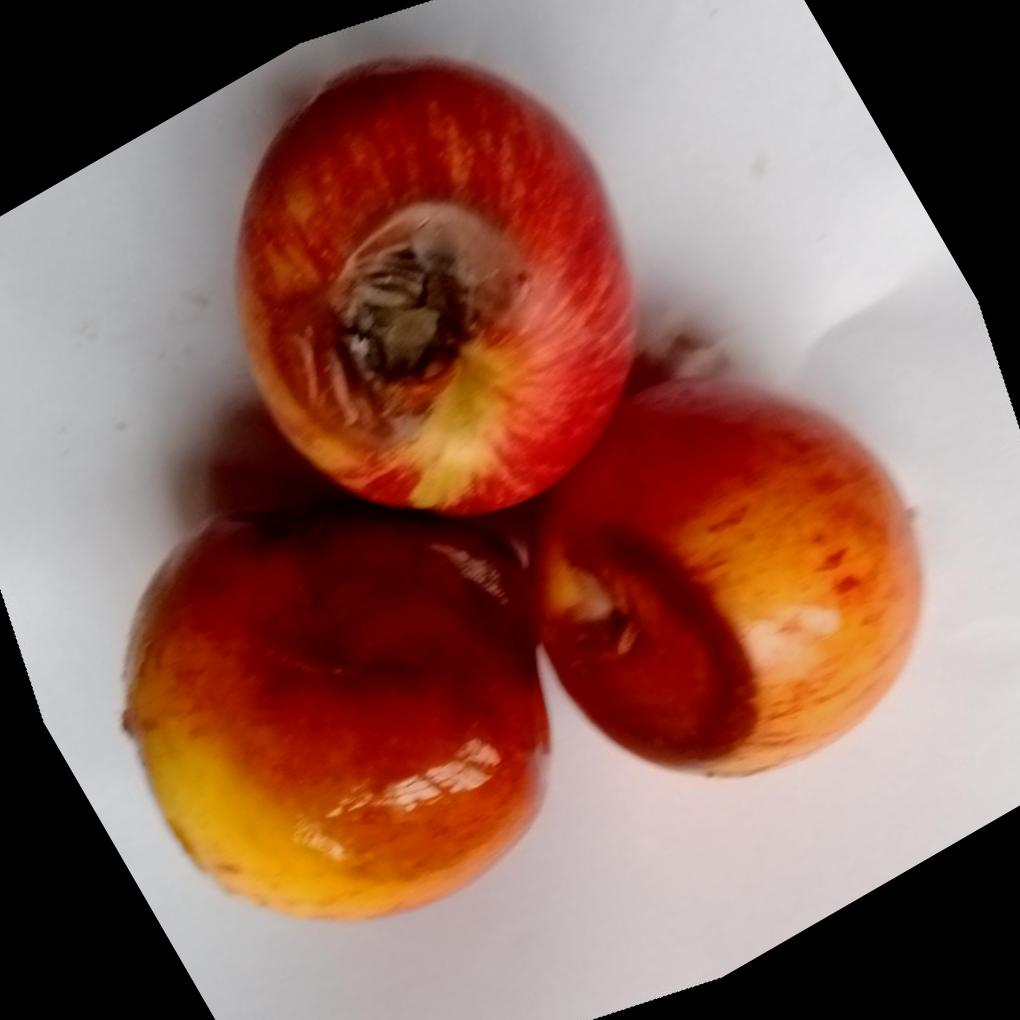FreshOrange: (121, 58, 921, 927)
